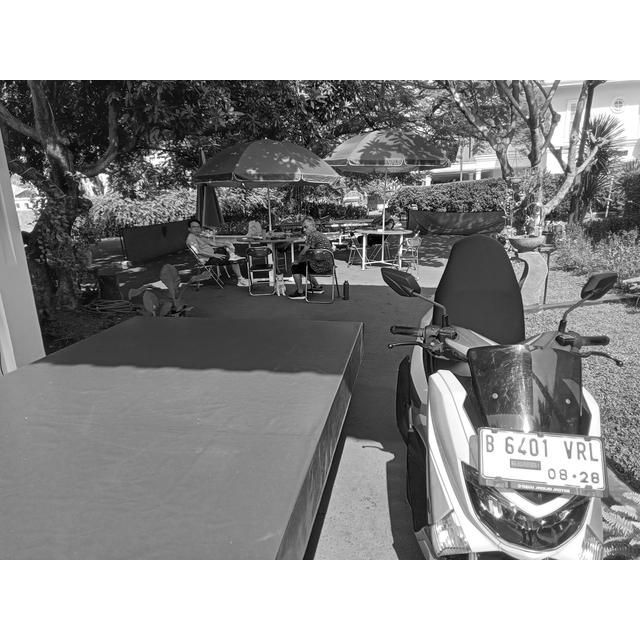license: (483, 432, 599, 483)
